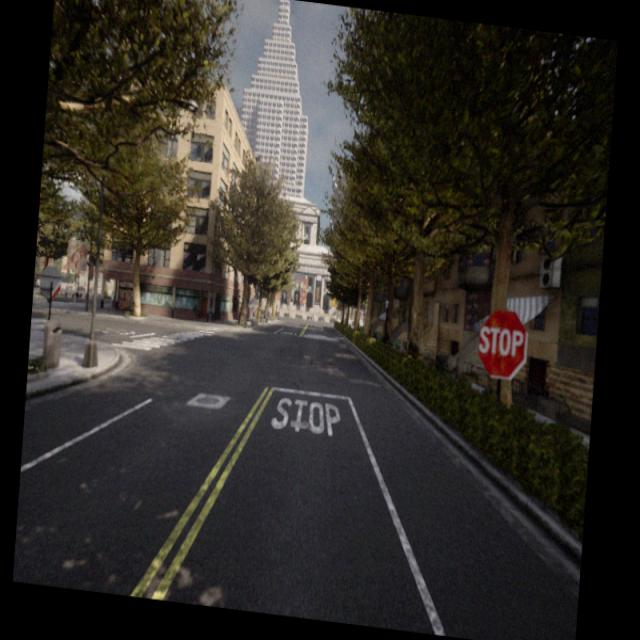stop sign: (475, 306, 530, 382), (478, 324, 524, 358)
